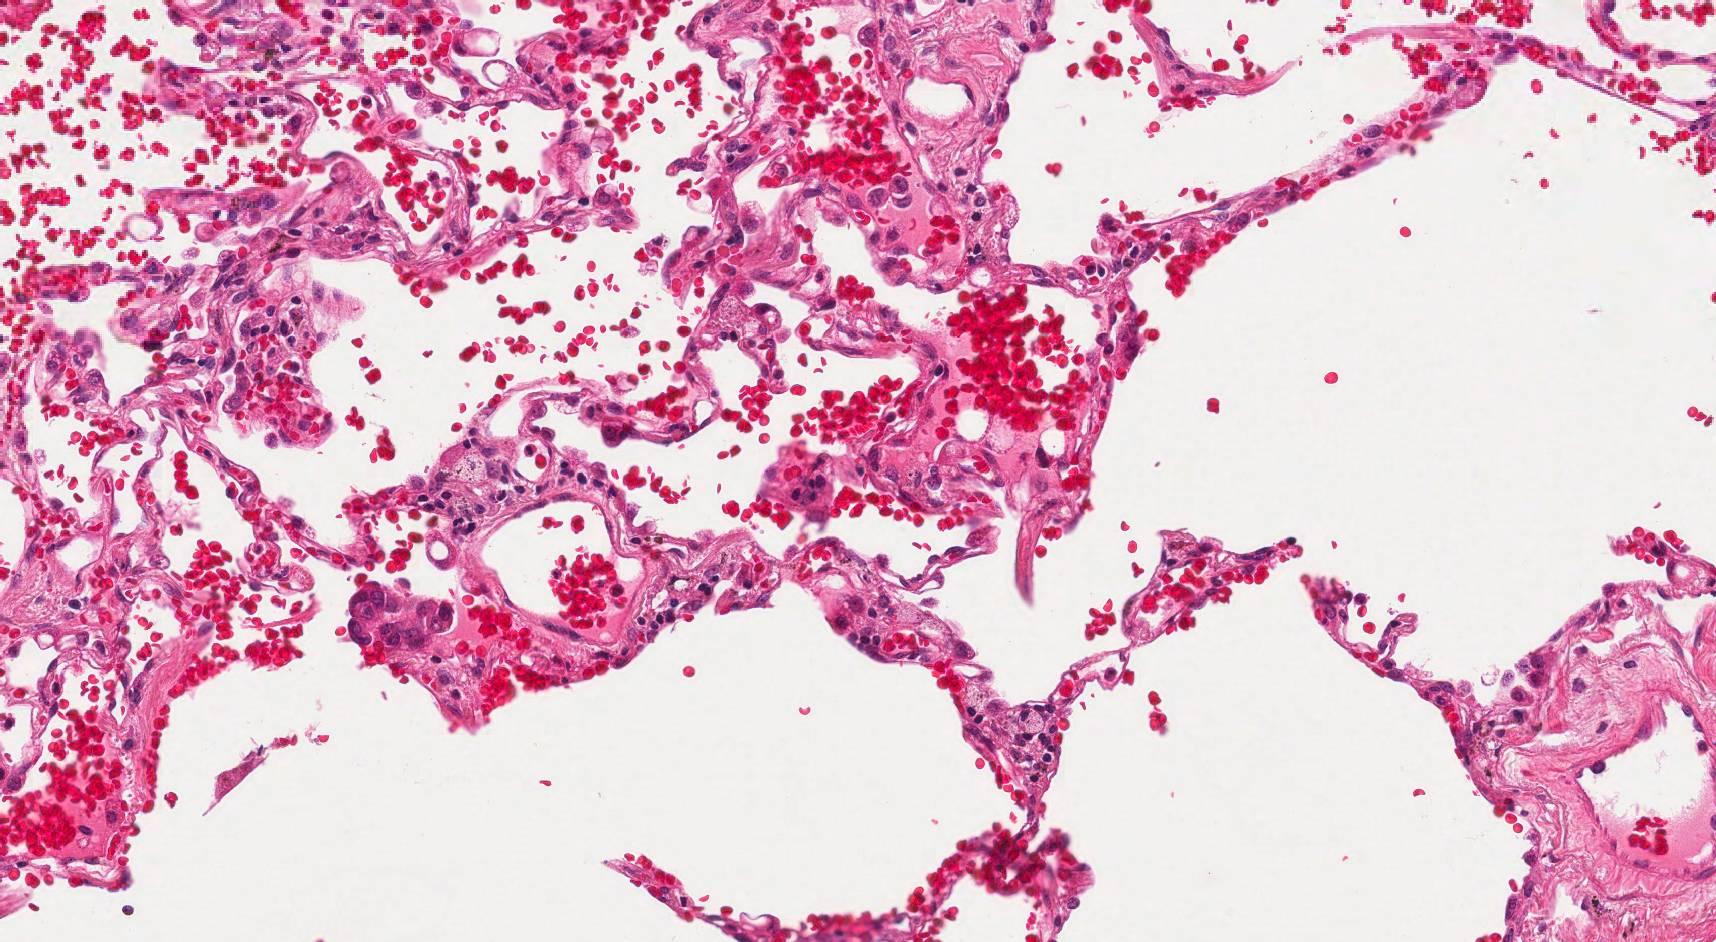stas: (347, 582, 456, 651)
